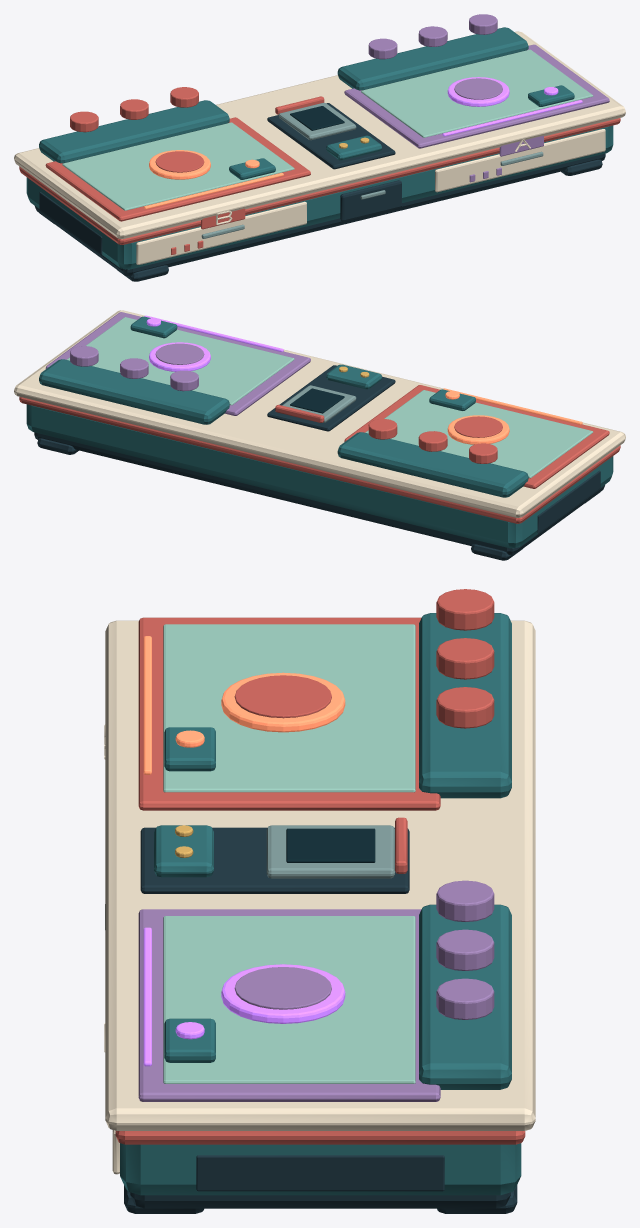
The model's file is medicine-table.glb.
3 renders of one model, top to bottom at view 1: azimuth 30°, elevation 25°; view 2: azimuth 150°, elevation 25°; view 3: azimuth 270°, elevation 25°, orthographic. The views are drawn at different scales.
Visible parts, largest first — view 1: CeramicCream, MintCushion, DeepTeal, CoralEnamel, SlateRubber, LavenderEnamel, BrushedMetal, AntidoteGlow, BurnHealGlow, ScreenGlass; view 2: DeepTeal, CeramicCream, MintCushion, CoralEnamel, SlateRubber, LavenderEnamel, BurnHealGlow, AntidoteGlow, ScreenGlass, BrushedMetal; view 3: MintCushion, CeramicCream, DeepTeal, CoralEnamel, SlateRubber, LavenderEnamel, AntidoteGlow, BurnHealGlow, BrushedMetal, ScreenGlass.
Part boxes in pixels (x1,y1,x2,y2): CeramicCream: (14, 31, 625, 264); MintCushion: (62, 49, 593, 210); DeepTeal: (26, 27, 613, 269); CoralEnamel: (19, 87, 620, 254); SlateRubber: (35, 103, 605, 281); LavenderEnamel: (344, 14, 609, 182); BrushedMetal: (201, 102, 543, 238); AntidoteGlow: (442, 77, 582, 136); BurnHealGlow: (143, 150, 283, 209); ScreenGlass: (290, 106, 344, 130); DeepTeal: (26, 316, 613, 548); CeramicCream: (14, 310, 625, 517); MintCushion: (66, 317, 593, 478); CoralEnamel: (19, 385, 620, 523); SlateRubber: (34, 365, 604, 560); LavenderEnamel: (45, 312, 310, 415); BurnHealGlow: (443, 388, 582, 444); AntidoteGlow: (144, 315, 283, 371); ScreenGlass: (290, 388, 344, 413); BrushedMetal: (282, 385, 356, 422); MintCushion: (163, 624, 415, 1083); CeramicCream: (104, 620, 535, 1174); DeepTeal: (120, 613, 521, 1195); CoralEnamel: (115, 589, 525, 1144); SlateRubber: (124, 827, 517, 1213); LavenderEnamel: (138, 880, 494, 1101); AntidoteGlow: (143, 927, 345, 1066); BurnHealGlow: (143, 636, 345, 774); BrushedMetal: (105, 825, 394, 929); ScreenGlass: (286, 828, 375, 862).
Bounding box in the file's own units: 5.68 × 1.03 × 2.09.
